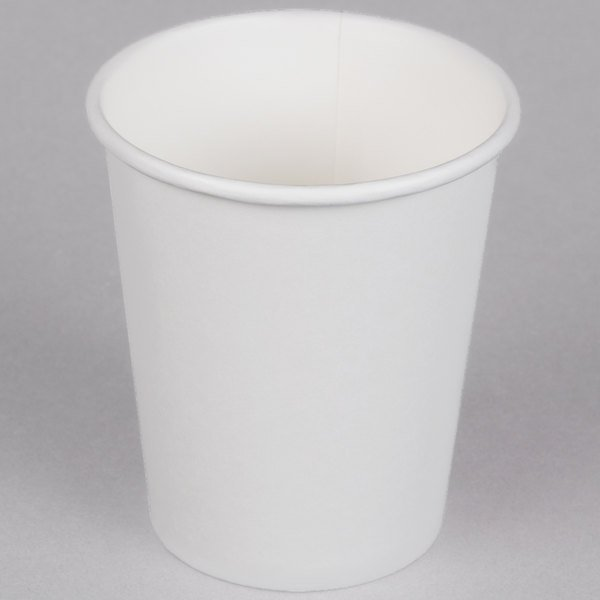cup: (77, 4, 524, 594)
